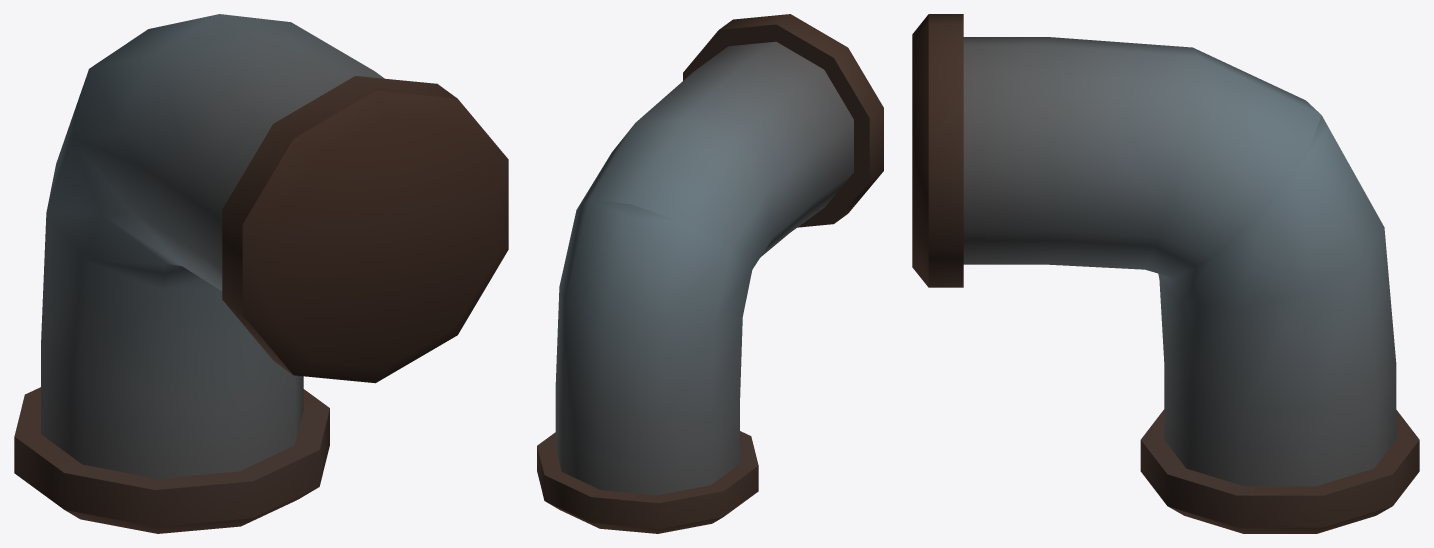
Rendered from SM_PipiB_01.fbx.
3 renders of one model, left to right at view 1: azimuth 30°, elevation 25°; view 2: azimuth 150°, elevation 25°; view 3: azimuth 270°, elevation 25°, orthographic. The views are drawn at different scales.
Parts seen in each view (by area): view 1: SM_PipiB_01; view 2: SM_PipiB_01; view 3: SM_PipiB_01.
Part boxes in pixels (x1,y1,x2,y2): SM_PipiB_01: (14, 14, 508, 533); SM_PipiB_01: (537, 14, 883, 533); SM_PipiB_01: (912, 14, 1419, 533).
Bounding box in the file's own units: 0.2064 × 0.3948 × 0.3966.
